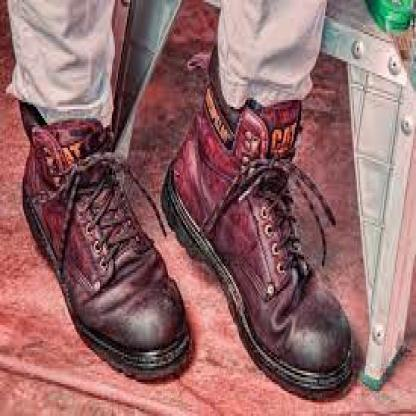safety-shoe: (167, 69, 363, 403), (8, 98, 196, 384)
